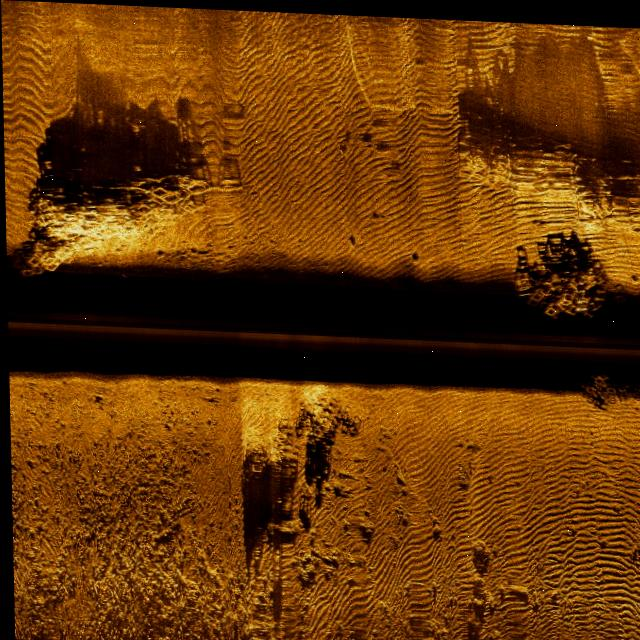artificial reef: (19, 156, 240, 286), (499, 240, 618, 320), (566, 372, 640, 408)
